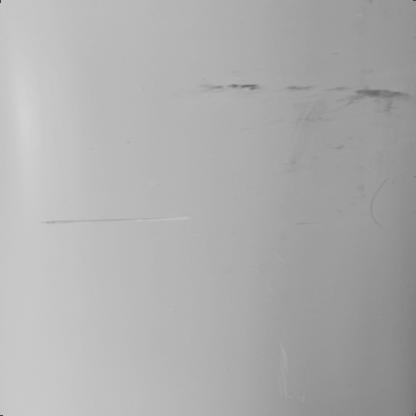sunshang: (33, 213, 190, 228), (370, 178, 391, 233)
